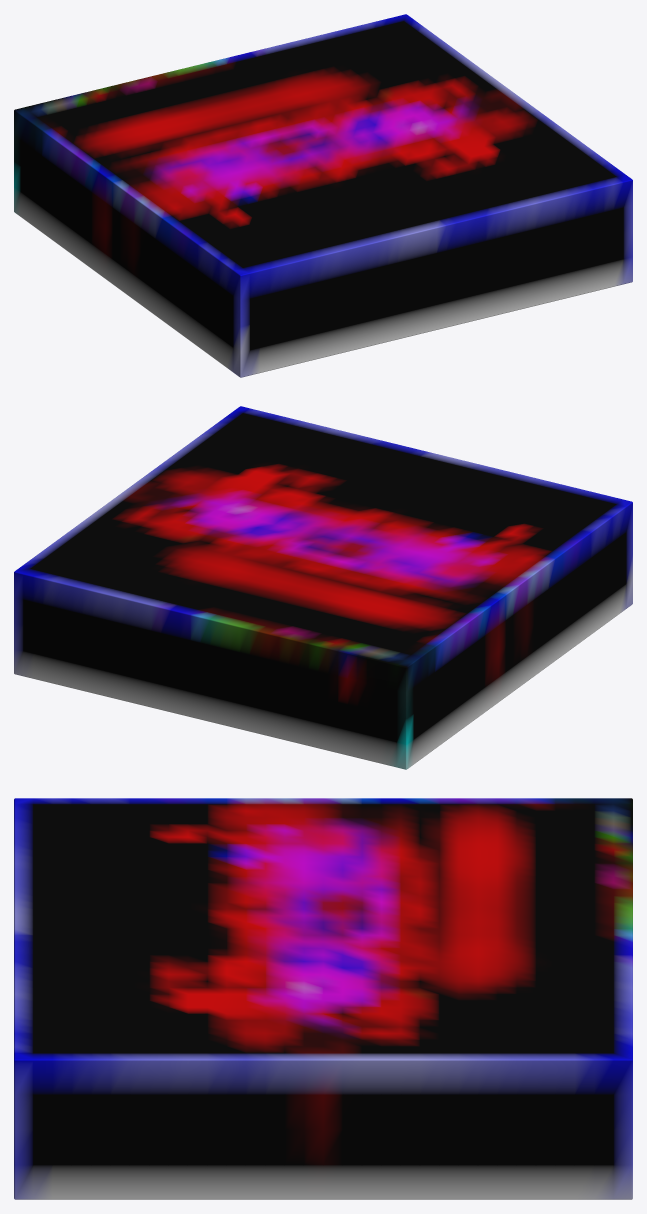
File: SM_Floor_Crypt_Var_01.fbx
3 renders of one model, top to bottom at view 1: azimuth 30°, elevation 25°; view 2: azimuth 150°, elevation 25°; view 3: azimuth 270°, elevation 25°, orthographic. The views are drawn at different scales.
Parts seen in each view (by area): view 1: SM_Floor_Crypt_Var_01_LOD0; view 2: SM_Floor_Crypt_Var_01_LOD0; view 3: SM_Floor_Crypt_Var_01_LOD0.
Part boxes in pixels (x1,y1,x2,y2): SM_Floor_Crypt_Var_01_LOD0: (14,14,632,377); SM_Floor_Crypt_Var_01_LOD0: (14,406,632,769); SM_Floor_Crypt_Var_01_LOD0: (14,798,632,1199).
Size of the model in its own units: 400 by 400 by 100.
